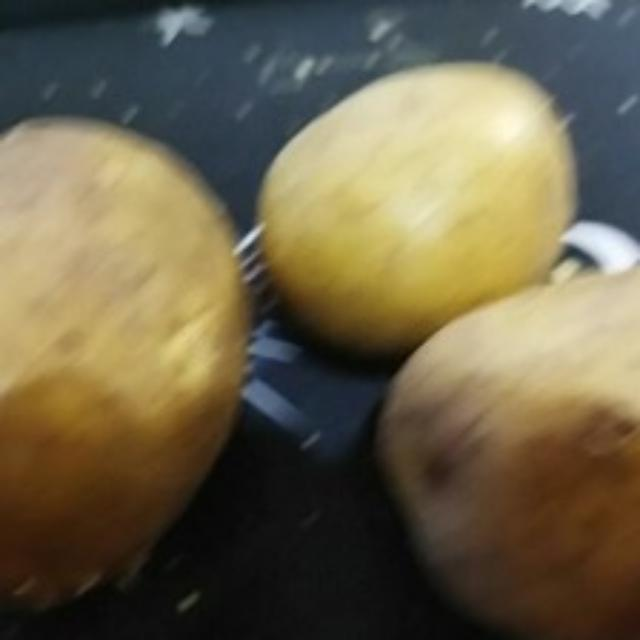Damaged potato: (3, 107, 263, 626), (372, 227, 640, 638)
Potato: (255, 51, 589, 355)
